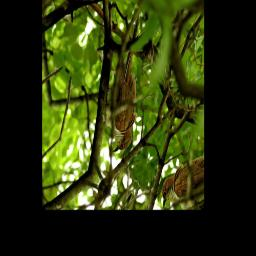Cuckoo: (83, 11, 177, 163)
